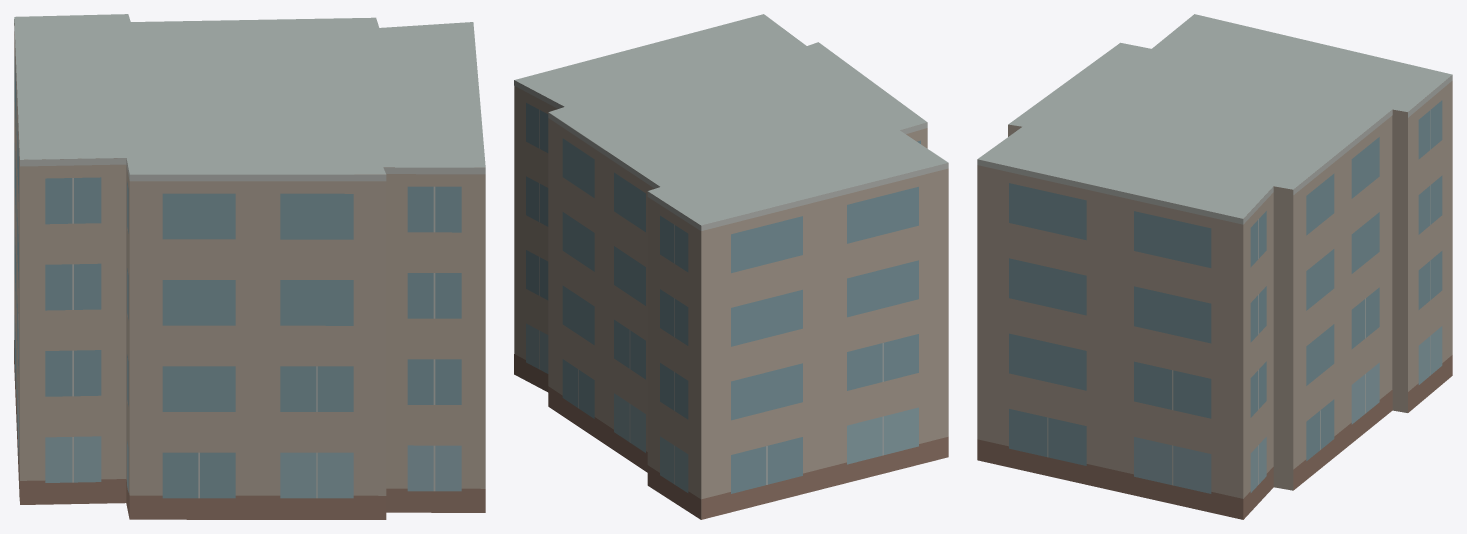
The model's file is survey-upis-32879096.glb.
3 renders of one model, left to right at view 1: azimuth 30°, elevation 25°; view 2: azimuth 150°, elevation 25°; view 3: azimuth 270°, elevation 25°, orthographic. The views are drawn at different scales.
Visible parts, largest first — view 1: survey-upis-32879096.tmp; view 2: survey-upis-32879096.tmp; view 3: survey-upis-32879096.tmp.
Part boxes in pixels (x1,y1,x2,y2): survey-upis-32879096.tmp: [14, 14, 485, 519]; survey-upis-32879096.tmp: [514, 14, 948, 519]; survey-upis-32879096.tmp: [977, 14, 1452, 519].
Bounding box in the file's own units: 18.55 × 12.7 × 18.19.
